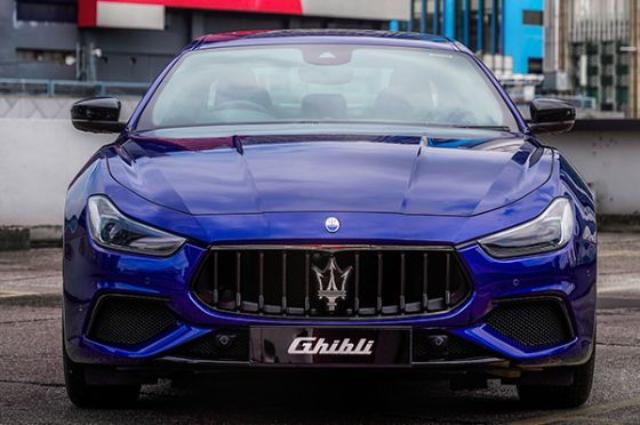maserati: (62, 29, 598, 408)
